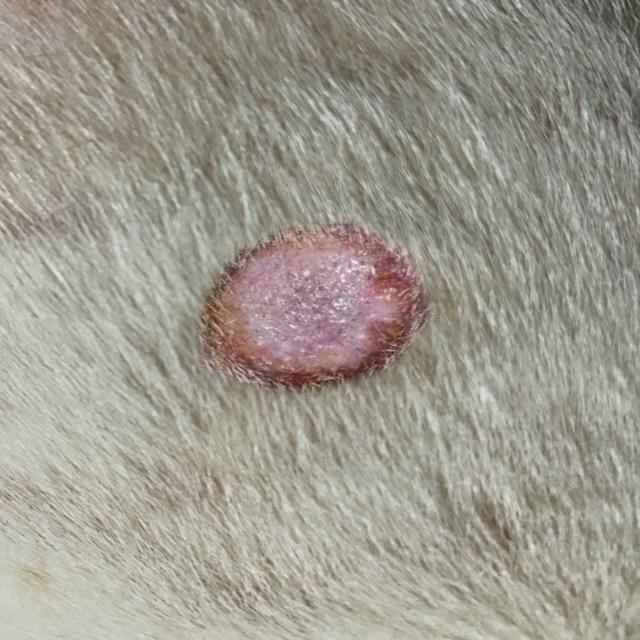ringworm: (162, 215, 463, 393)
